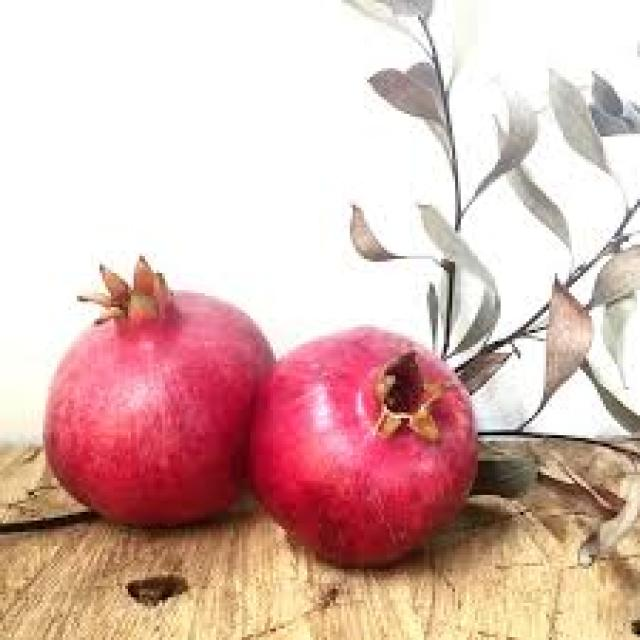Pomegranate: (251, 329, 477, 562), (42, 294, 273, 520)
